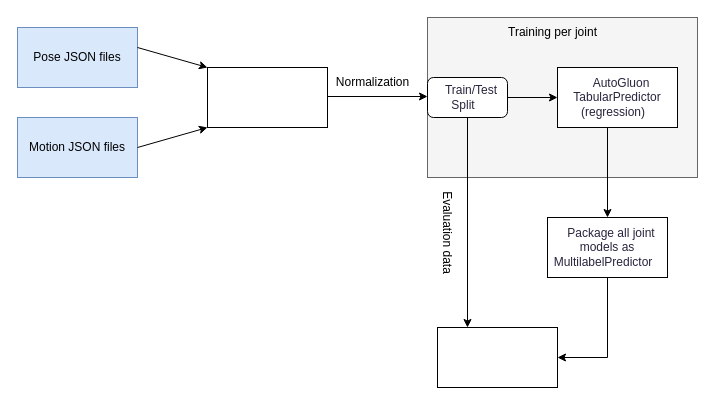
Image size: 715x405. Some labels were removed from this diagram. Here are the shapes that lost their labels. From the top down, the centre of each, then its label:
point 267,97: Combine into single csv
point 497,357: Predict per joint
